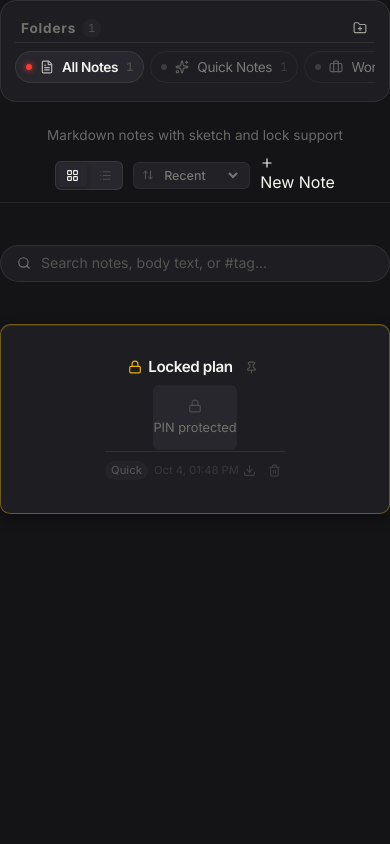
NotesWorkflows: Multi-Agent Edge & Unit Tests for Notes Vault › regressions from the Notes page test run (NOTES_TEST_CASES.md) › D3: exporting a locked note asks for its PIN instead of downloading
What coordinates should you click on to do the following:
click the button named "Export Markdown"
I would click on:
 (250, 470)
Its box is [239,460,260,481].
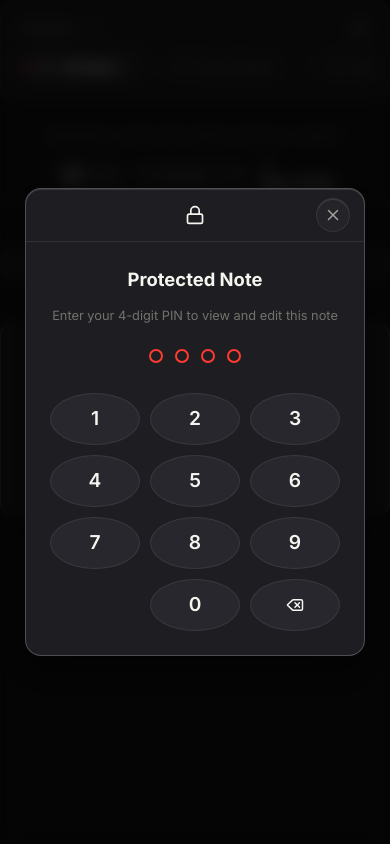
Now the element that starts with "Protected Note" is shown, box [25,188,365,656]
